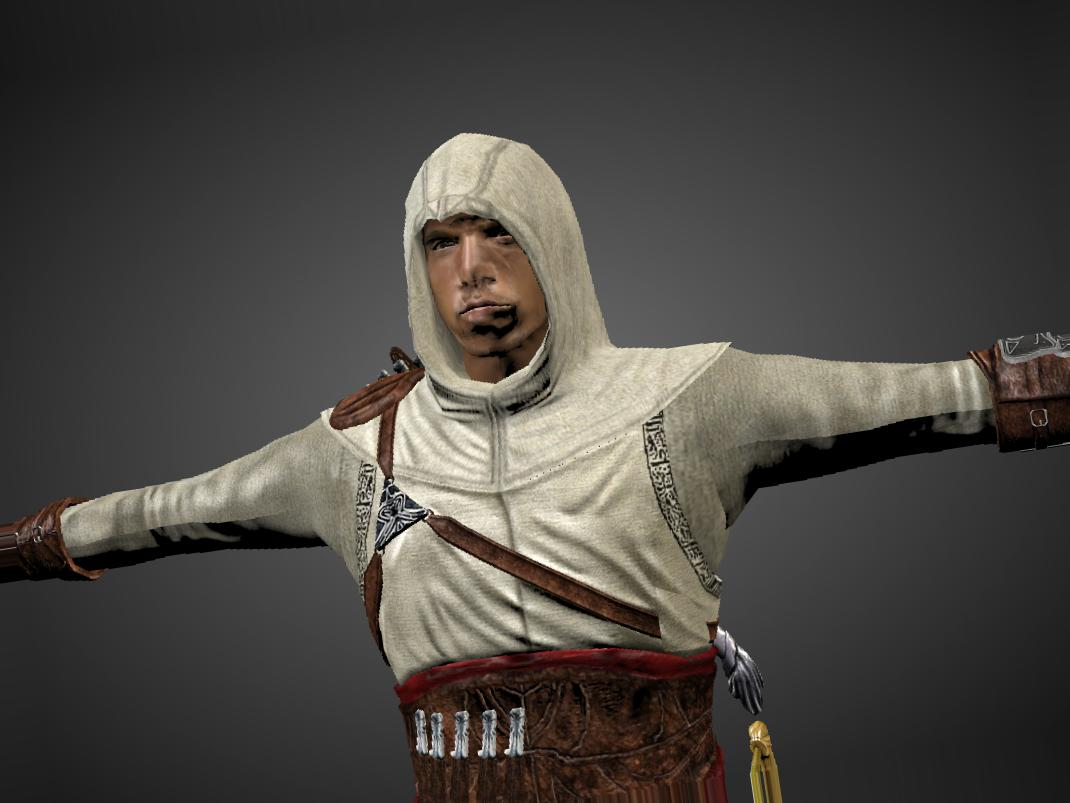clip: (627, 597, 715, 656)
